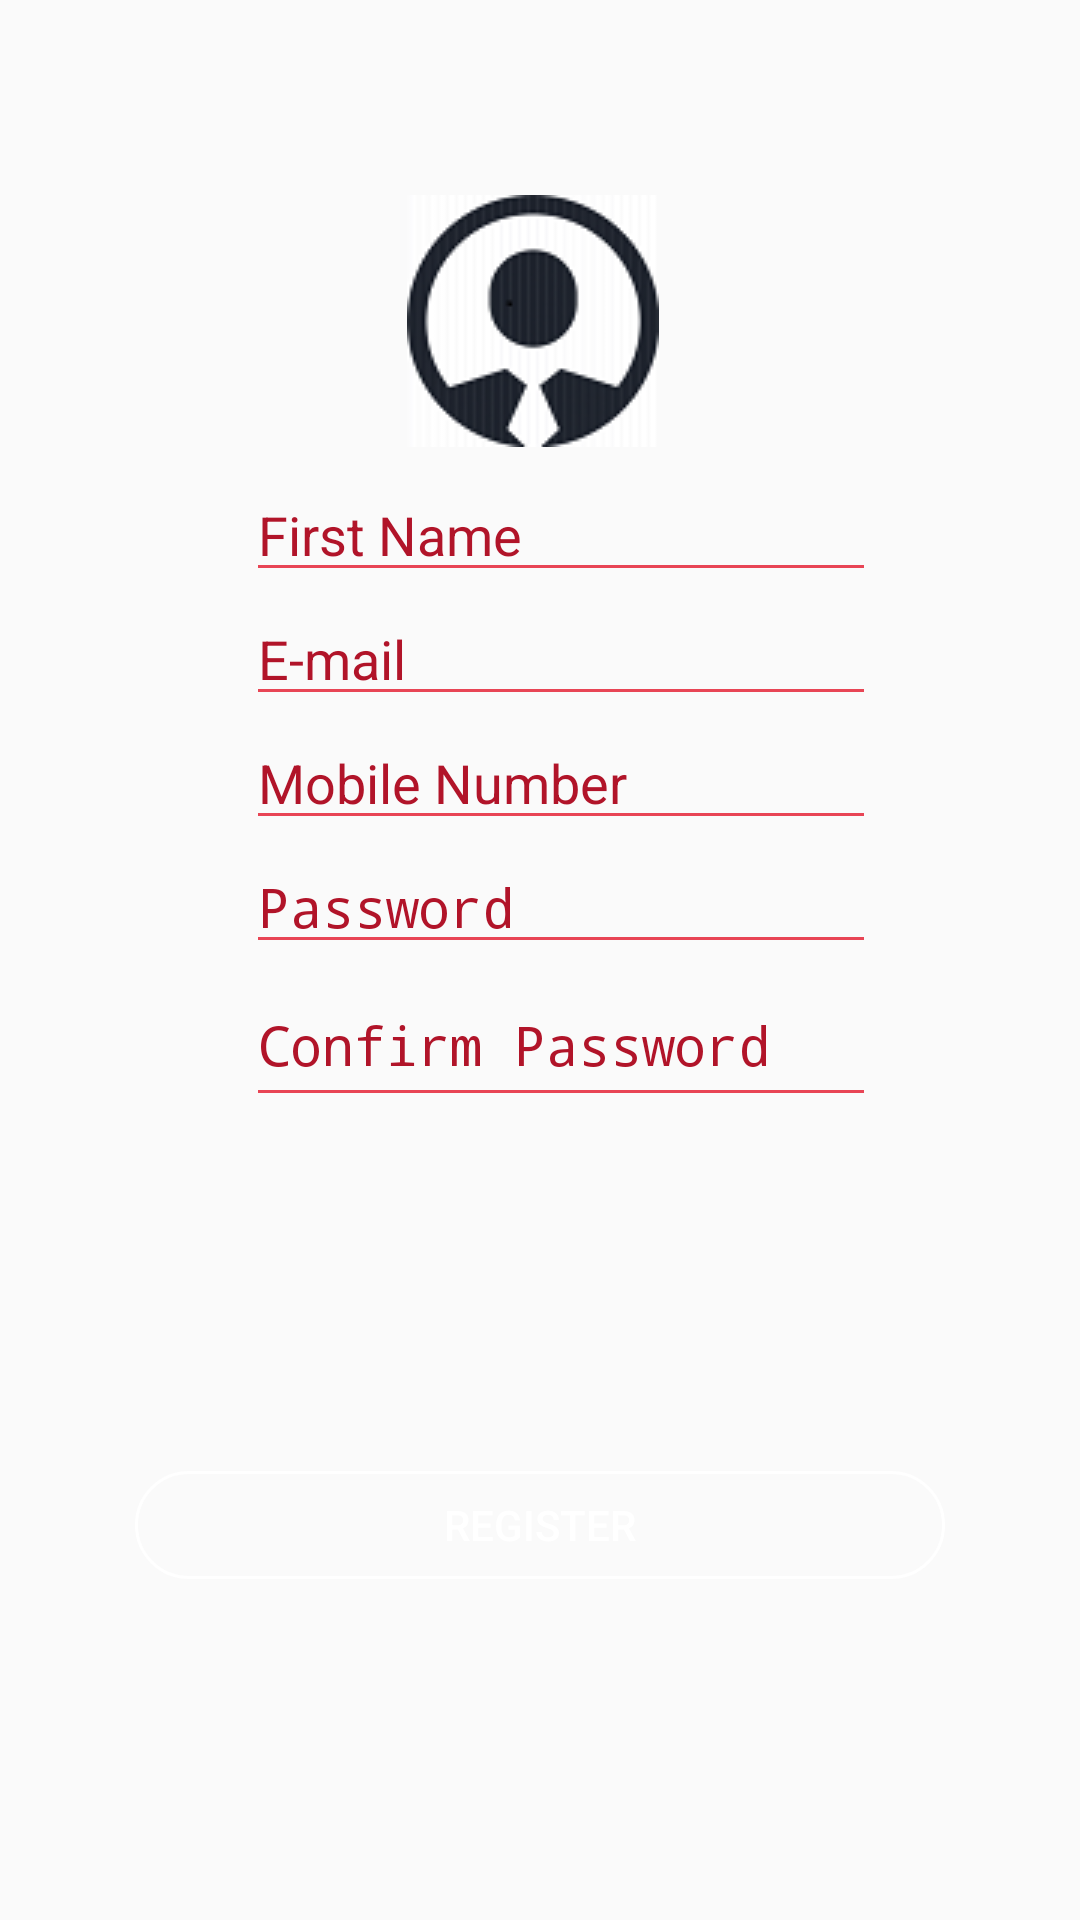

Point at icon controls on the screen. Image size 1080 x 1920, points as (x=x, y=y).
usersymbol: (x=533, y=321)
